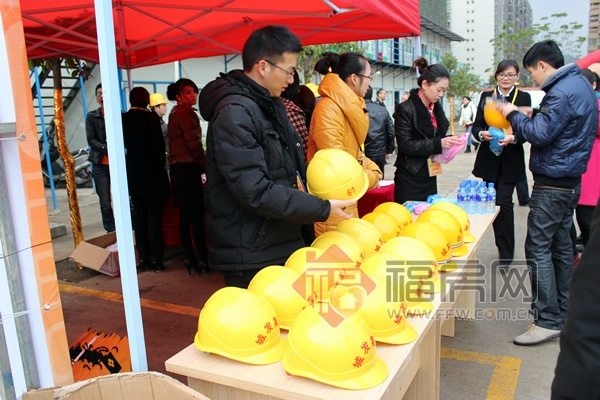none: (241, 25, 297, 96), (524, 40, 565, 88), (335, 50, 372, 96), (417, 59, 449, 106), (169, 77, 199, 109), (492, 58, 521, 91)
yellow: (146, 90, 167, 117)
